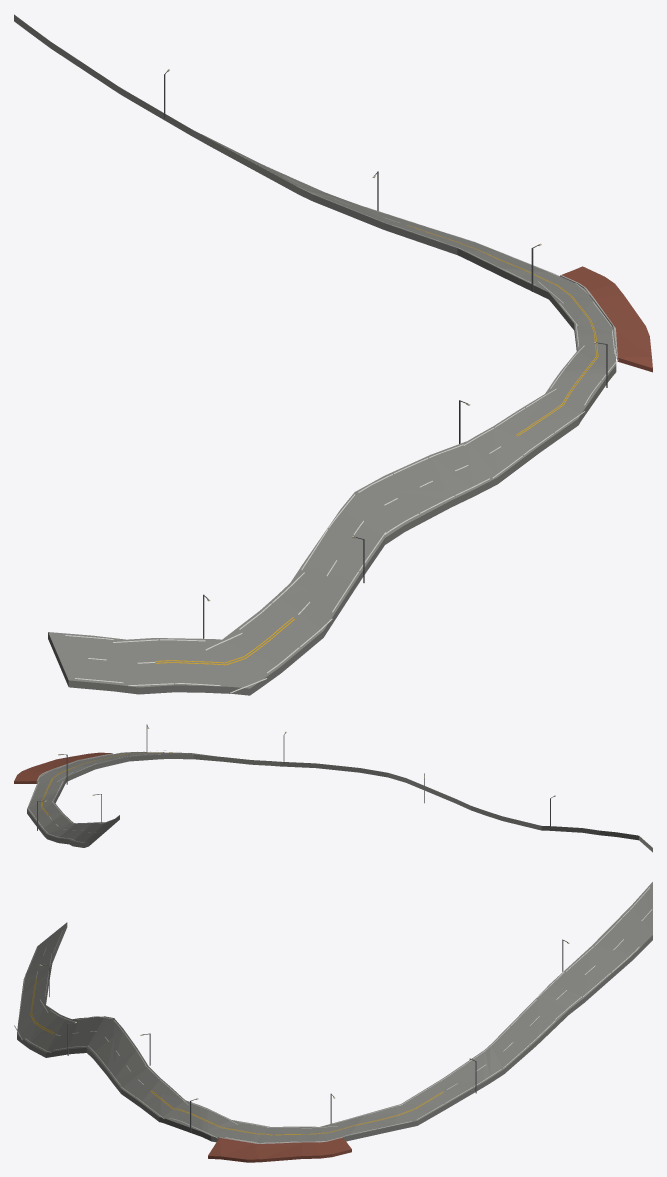
File: 17-109462-59526.4dbb3271.glb
The picture shows the model from 3 angles, top to bottom: view 1: azimuth 30°, elevation 25°; view 2: azimuth 150°, elevation 25°; view 3: azimuth 270°, elevation 25°; orthographic projection. The views are drawn at different scales.
Bounding box in the file's own units: 133 × 53.76 × 136.
